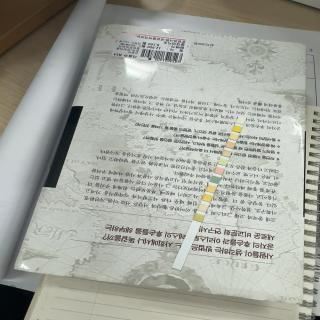mark: (194, 214, 204, 222), (198, 204, 208, 212), (202, 194, 212, 202), (218, 158, 227, 166), (210, 177, 220, 183), (207, 185, 215, 192), (222, 150, 230, 157), (234, 125, 242, 132), (230, 134, 238, 140), (237, 118, 245, 124), (216, 168, 223, 174), (227, 142, 234, 148)
